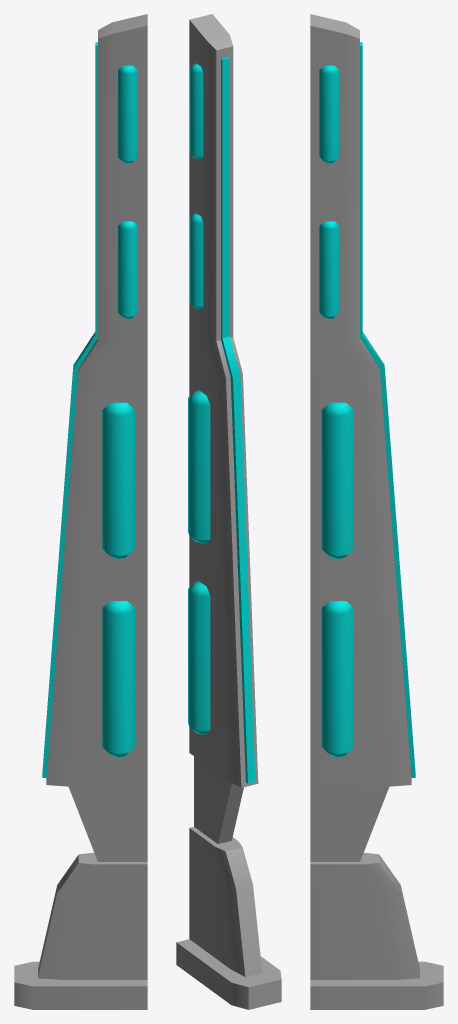
The model's file is HologramReactorWall.fbx.
The picture shows the model from 3 angles, left to right: view 1: azimuth 90°, elevation 25°; view 2: azimuth 210°, elevation 25°; view 3: azimuth 270°, elevation 25°; orthographic projection. The views are drawn at different scales.
Parts seen in each view (by area): view 1: polySurface4; view 2: polySurface4; view 3: polySurface4.
Boxes of the visible parts, bbox=[...] form: polySurface4: bbox=[14, 14, 147, 1009]; polySurface4: bbox=[176, 14, 281, 1009]; polySurface4: bbox=[310, 14, 443, 1009].
Bounding box in the file's own units: 0.1012 × 1.84 × 0.2279.
